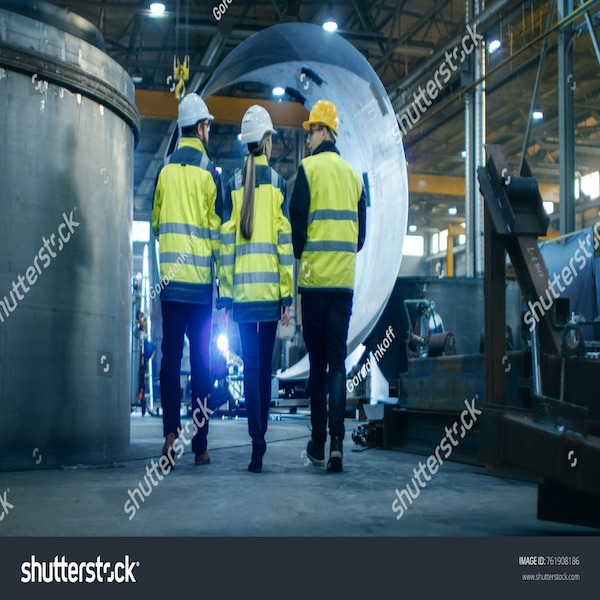helmet: (236, 104, 281, 150), (174, 91, 217, 128), (304, 101, 346, 136)
vest: (159, 148, 218, 298), (297, 155, 364, 285), (232, 164, 289, 302)
